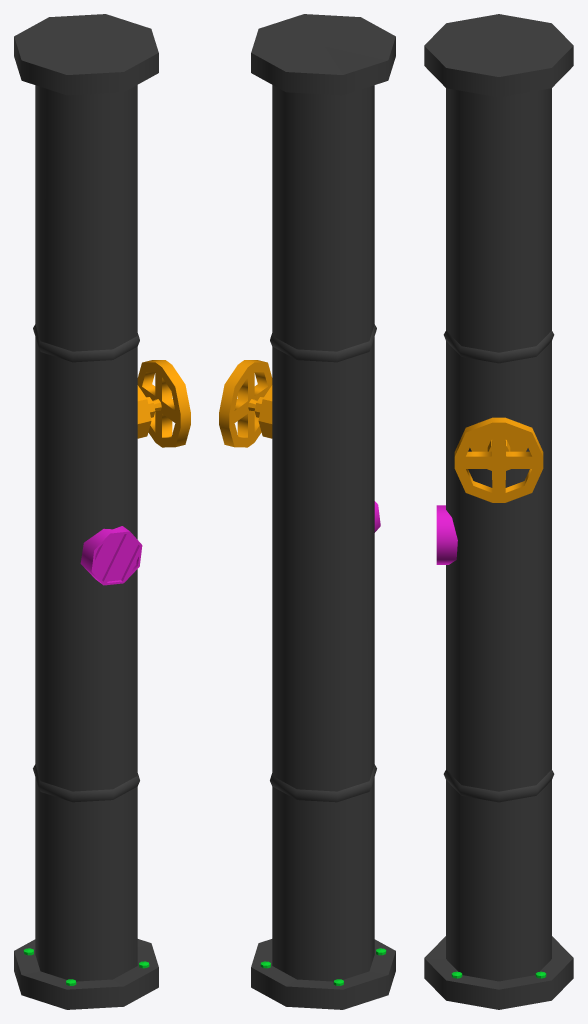
The model's file is SM_ENV_PIPE_STRAIGHT_02.FBX.
3 views of the same model, side by side, from view 1: azimuth 30°, elevation 25°; view 2: azimuth 150°, elevation 25°; view 3: azimuth 270°, elevation 25° (orthographic).
Visible parts, largest first — view 1: pipe_straight_02; view 2: pipe_straight_02; view 3: pipe_straight_02.
Boxes of the visible parts, x1,y1,x2,y2 form: pipe_straight_02: [14, 14, 190, 1009]; pipe_straight_02: [219, 14, 395, 1009]; pipe_straight_02: [424, 14, 573, 1009].
Bounding box in the file's own units: 57.58 × 349 × 50.71.
